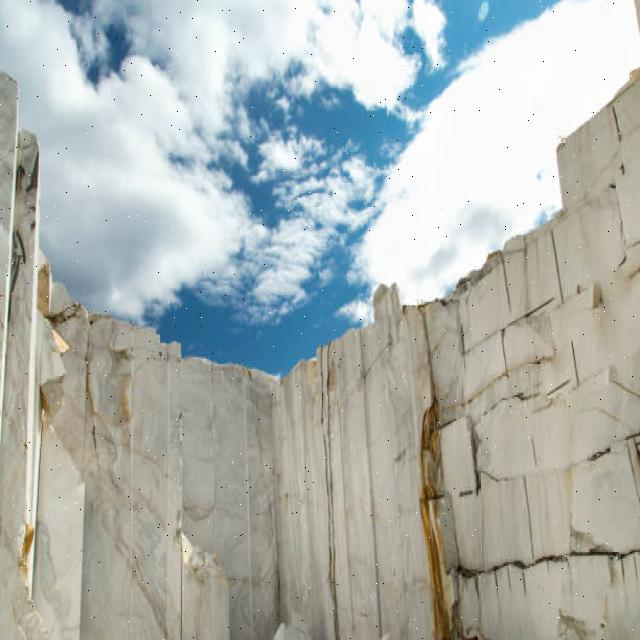Metamorphic: (1, 76, 638, 636)
